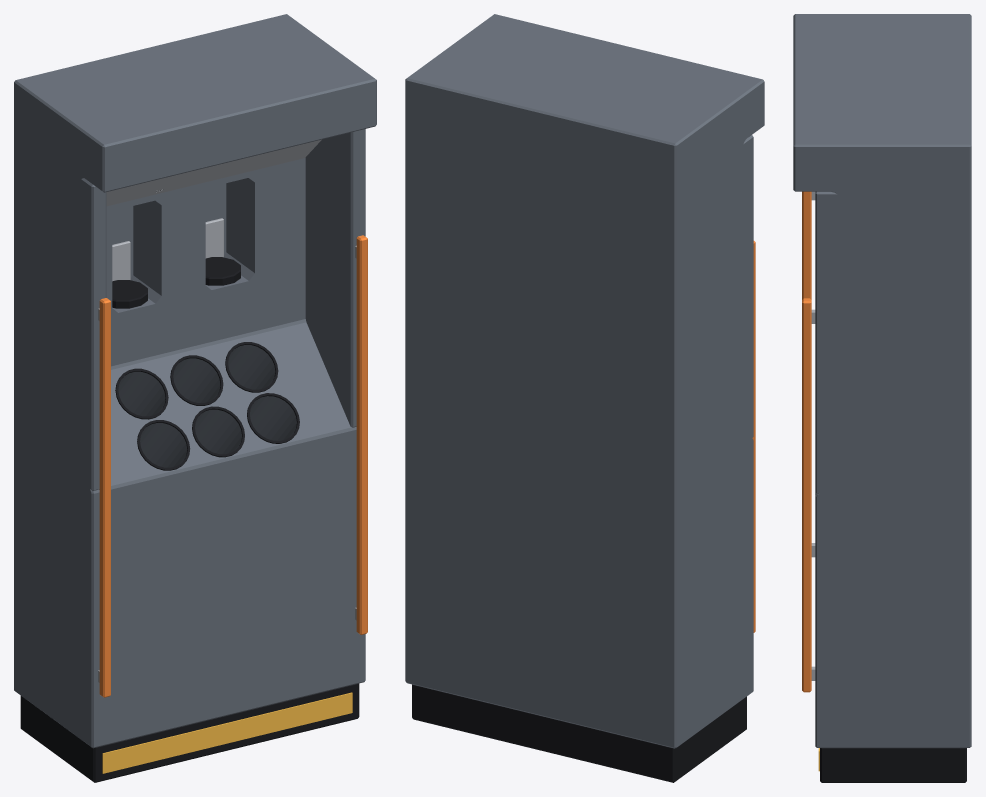
File: life_support_body.glb
The picture shows the model from 3 angles, left to right: view 1: azimuth 30°, elevation 25°; view 2: azimuth 150°, elevation 25°; view 3: azimuth 270°, elevation 25°; orthographic projection.
Parts seen in each view (by area): view 1: LifeSupportBody; view 2: LifeSupportBody; view 3: LifeSupportBody.
Part boxes in pixels (bbox=[...]): LifeSupportBody: bbox=[14, 14, 376, 782]; LifeSupportBody: bbox=[405, 14, 764, 782]; LifeSupportBody: bbox=[793, 14, 971, 782].
Bounding box in the file's own units: 1 × 2.26 × 0.57.
